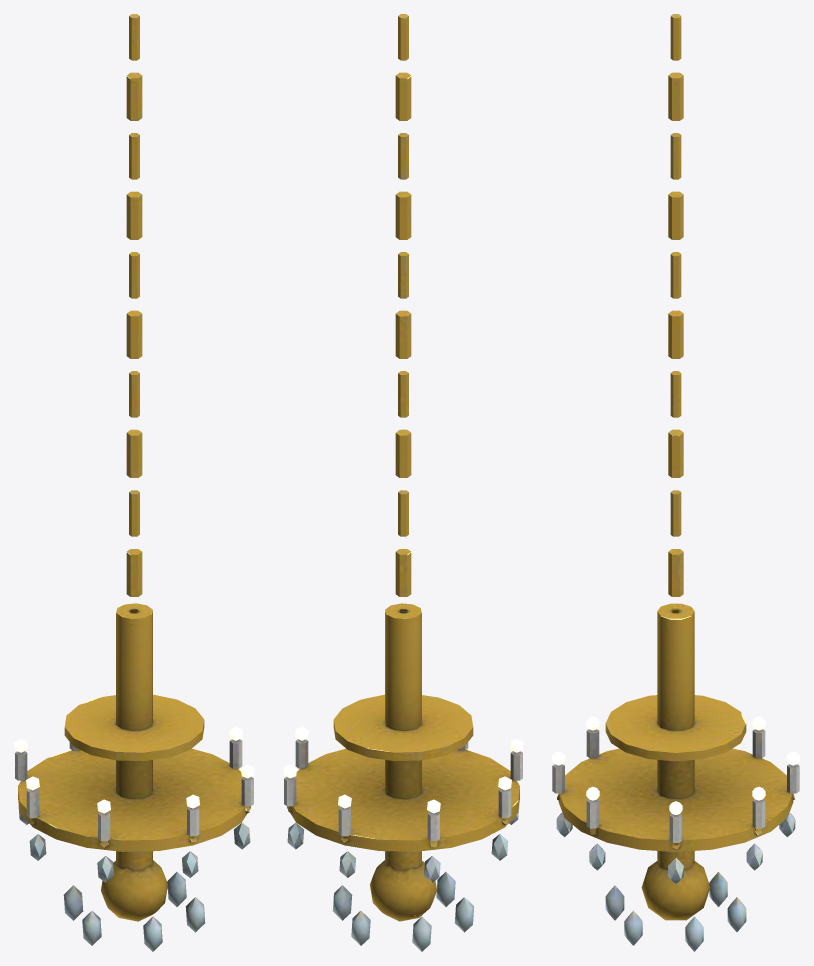
Rendered from lampara_arana.glb.
The picture shows the model from 3 angles, left to right: view 1: azimuth 30°, elevation 25°; view 2: azimuth 150°, elevation 25°; view 3: azimuth 270°, elevation 25°; orthographic projection.
Parts seen in each view (by area): view 1: lampara_arana; view 2: lampara_arana; view 3: lampara_arana.
Boxes of the visible parts, x1,y1,x2,y2 form: lampara_arana: (14, 14, 254, 951); lampara_arana: (283, 14, 523, 951); lampara_arana: (552, 14, 799, 951).
Size of the model in its own units: 1.59 by 6.43 by 1.59.
1 material, 1 textured.
